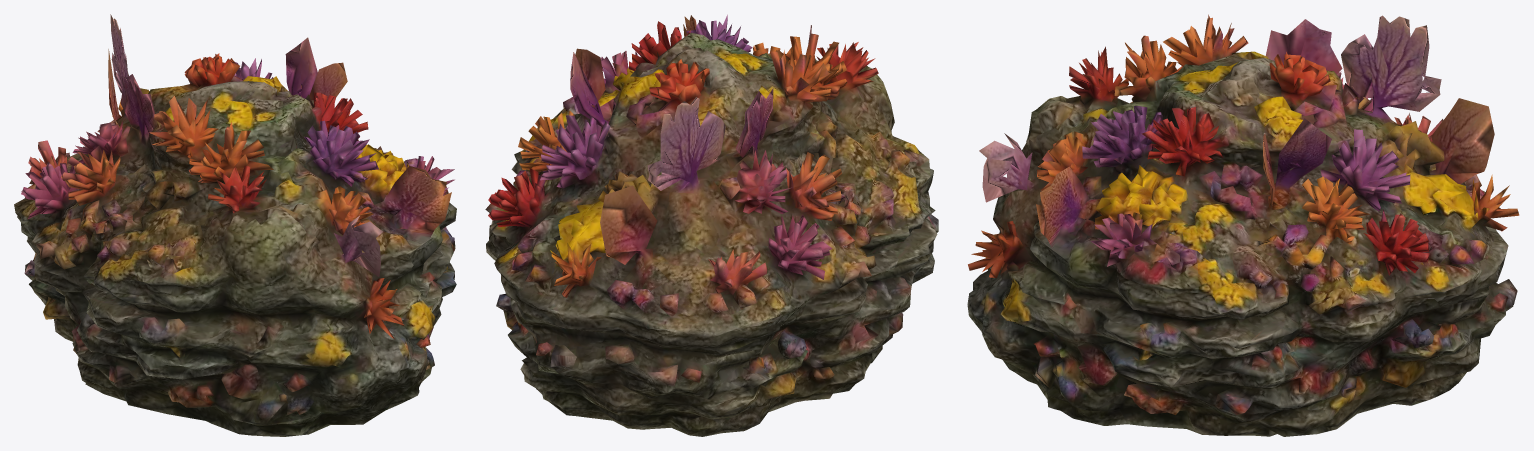
Rendered from korallenfels_a.glb.
3 views of the same model, side by side, from view 1: azimuth 30°, elevation 25°; view 2: azimuth 150°, elevation 25°; view 3: azimuth 270°, elevation 25° (orthographic). The views are drawn at different scales.
Parts seen in each view (by area): view 1: tripo_node_3cf3df28-b503-4095-81a1-3c29b1b28cd9; view 2: tripo_node_3cf3df28-b503-4095-81a1-3c29b1b28cd9; view 3: tripo_node_3cf3df28-b503-4095-81a1-3c29b1b28cd9.
Part boxes in pixels (box(x1,y1,x2,y2)): tripo_node_3cf3df28-b503-4095-81a1-3c29b1b28cd9: box(14, 14, 456, 436); tripo_node_3cf3df28-b503-4095-81a1-3c29b1b28cd9: box(485, 14, 938, 436); tripo_node_3cf3df28-b503-4095-81a1-3c29b1b28cd9: box(967, 14, 1519, 436).
Size of the model in its own units: 0.6312 by 0.4932 by 0.7652.
Materials: 1 (1 with a texture image).
